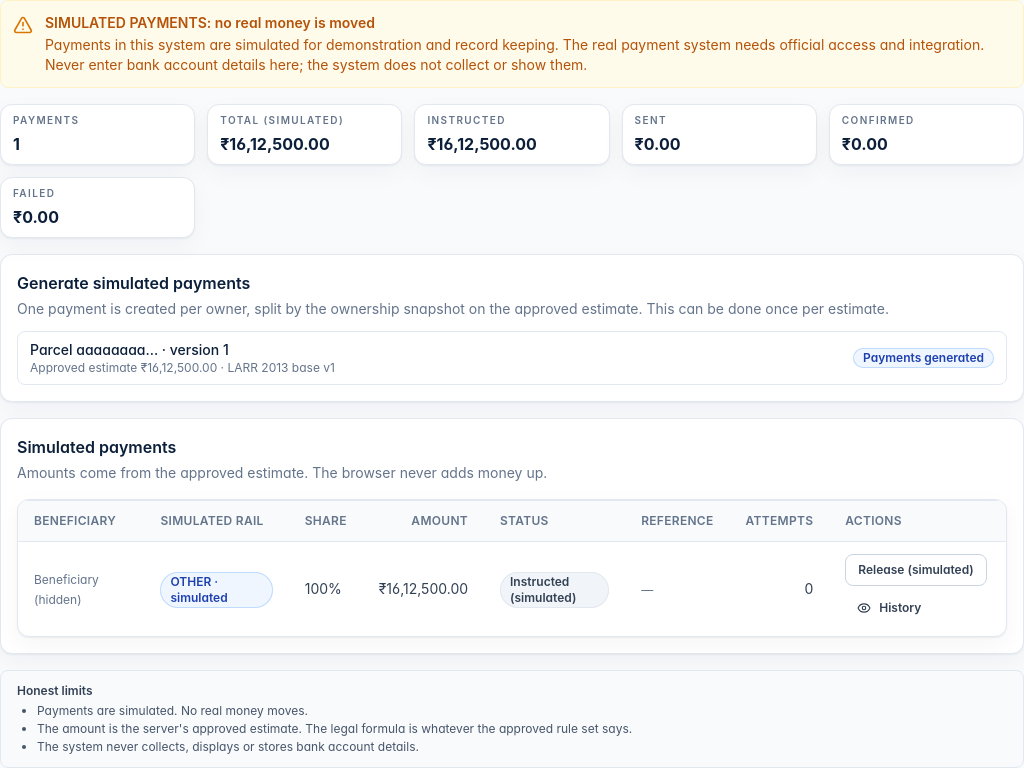
Scenario: simulated payments › loads the payment events on demand
Click the button "History" at (889, 608), box [845,592,933,624]
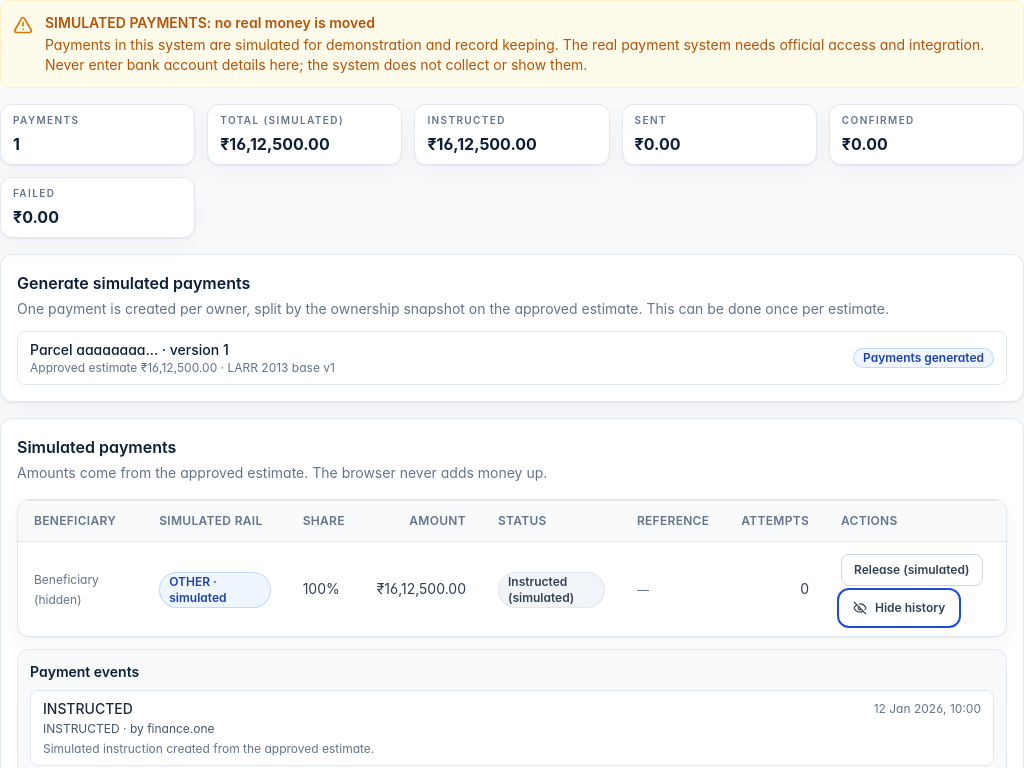
Expected: the heading "Payment events" is shown, [30,663,139,680]
Expected: the text "INSTRUCTED" is shown, [43,699,133,719]
Expected: the text "INSTRUCTED · by finance.one" is shown, [43,721,215,736]
